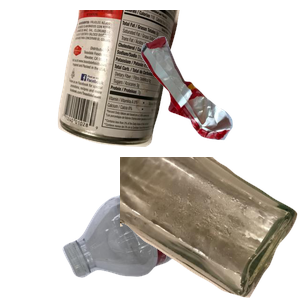glass: (120, 157, 300, 300)
metal: (55, 10, 227, 149)
plastic: (60, 190, 300, 280)
trash: (139, 34, 300, 167)
